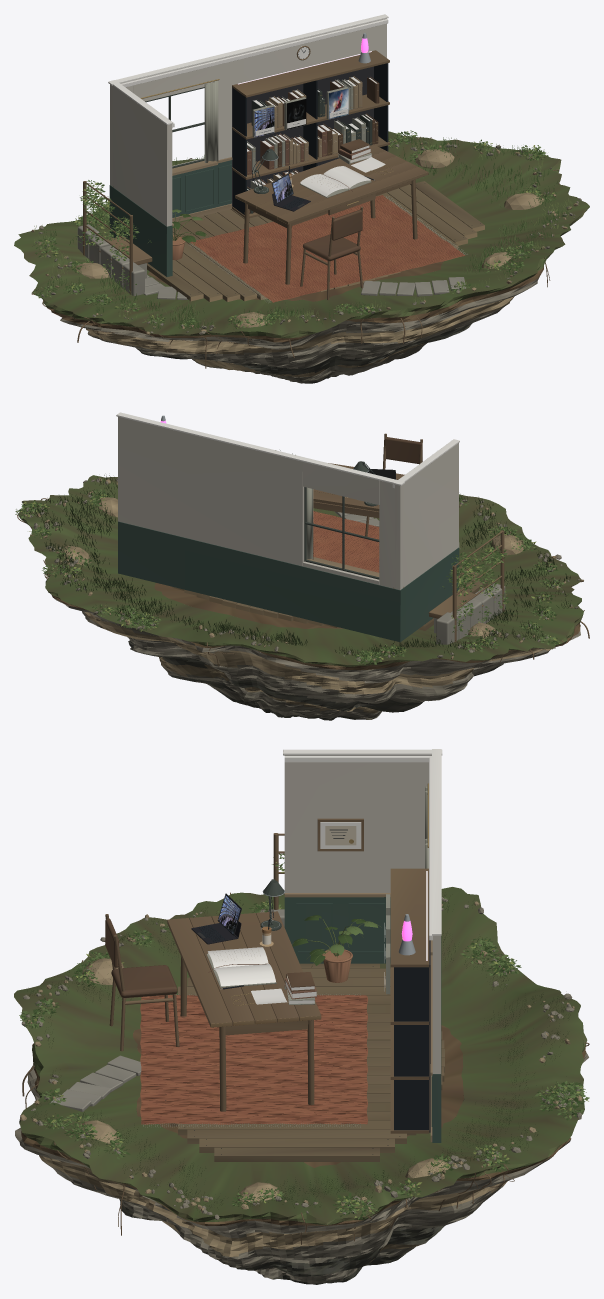
Rendered from orbit-writing-4b6f1c70.glb.
3 renders of one model, top to bottom at view 1: azimuth 30°, elevation 25°; view 2: azimuth 150°, elevation 25°; view 3: azimuth 270°, elevation 25°, orthographic. The views are drawn at different scales.
Parts seen in each view (by area): view 1: Writing island · browser materials; view 2: Writing island · browser materials; view 3: Writing island · browser materials.
Part boxes in pixels (left/top/right/bottom): Writing island · browser materials: left=14, top=14, right=589, bottom=383; Writing island · browser materials: left=15, top=412, right=589, bottom=720; Writing island · browser materials: left=14, top=749, right=589, bottom=1284.
Bounding box in the file's own units: 11.74 × 6.45 × 8.17.
Materials: 44 (4 with a texture image).
